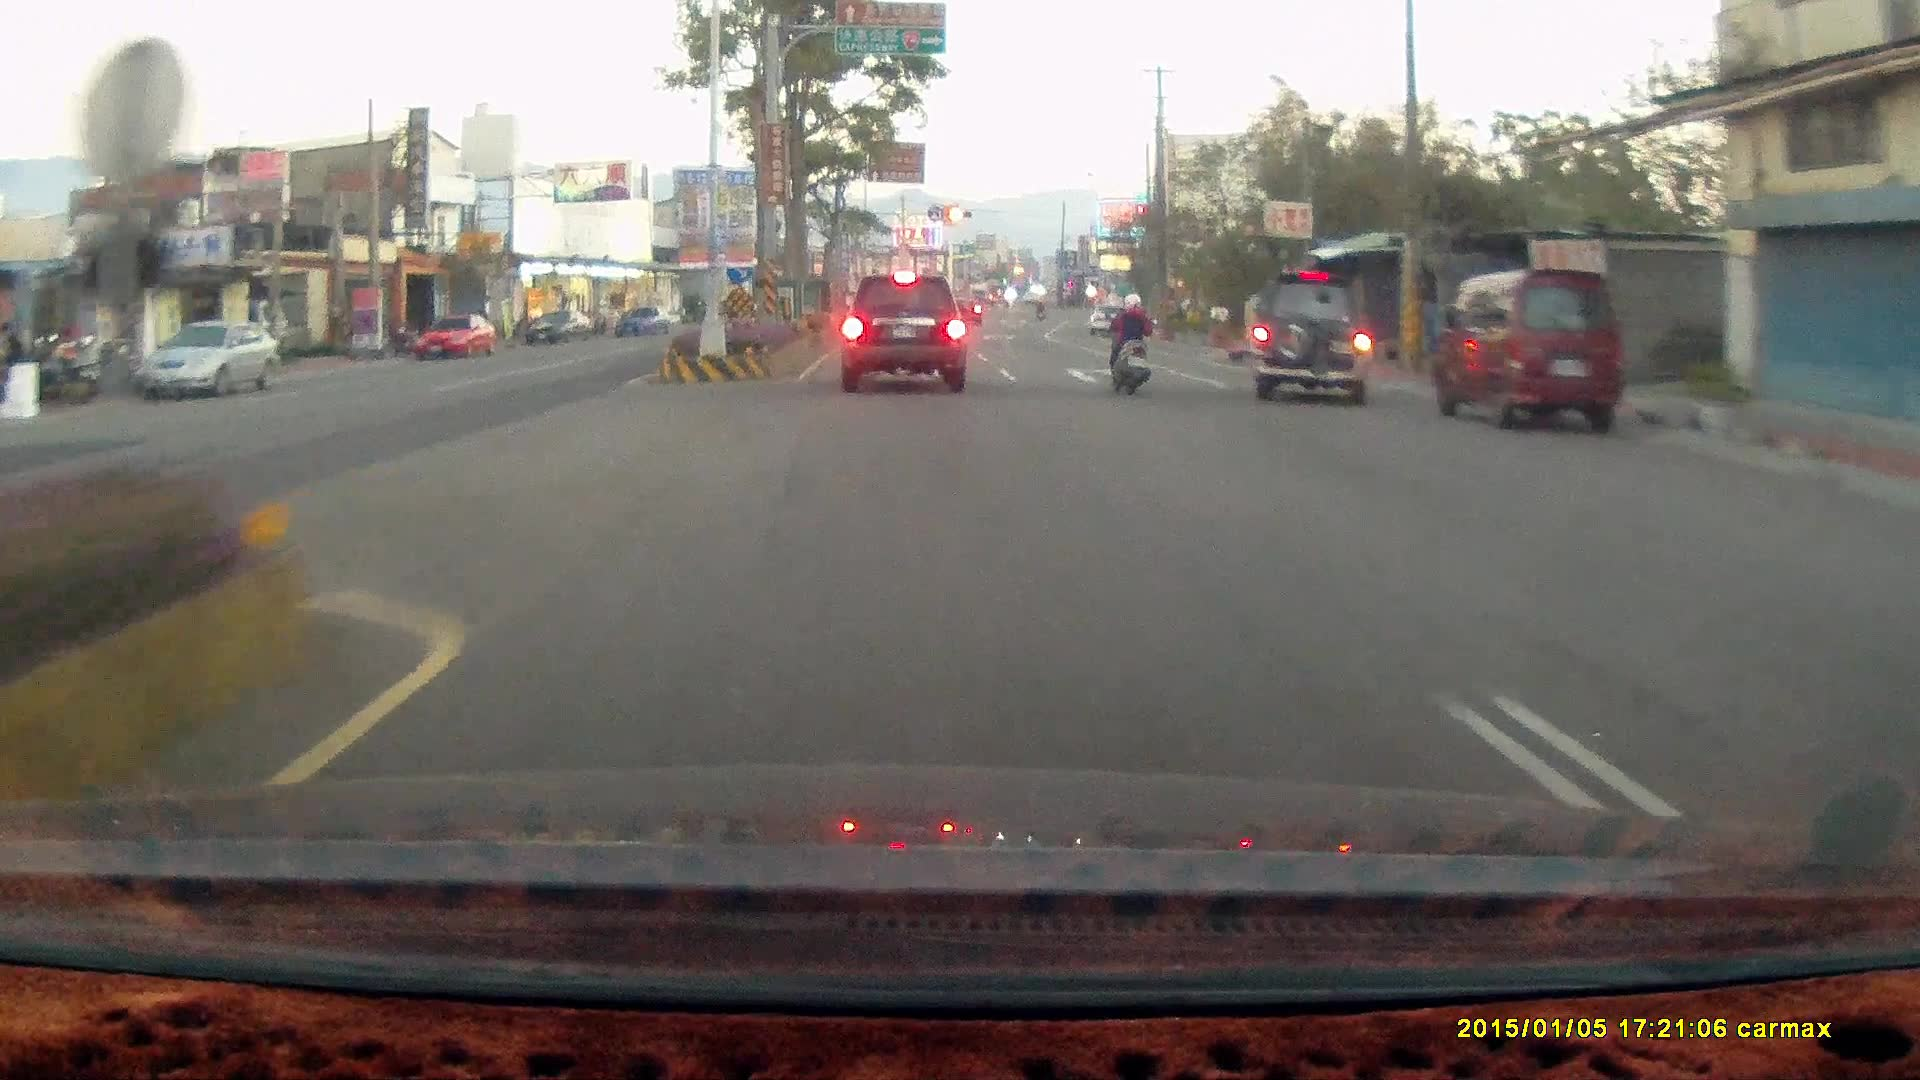pedestrian: (0, 318, 31, 394)
rider: (1106, 289, 1154, 396)
vehicle: (1429, 268, 1624, 435), (1431, 270, 1625, 436), (1243, 272, 1380, 400), (1246, 270, 1373, 404), (837, 273, 967, 392), (135, 320, 281, 402), (140, 319, 280, 400), (1896, 493, 1920, 836), (1883, 528, 1920, 690), (412, 310, 494, 361), (412, 310, 493, 359), (1087, 302, 1131, 334)
